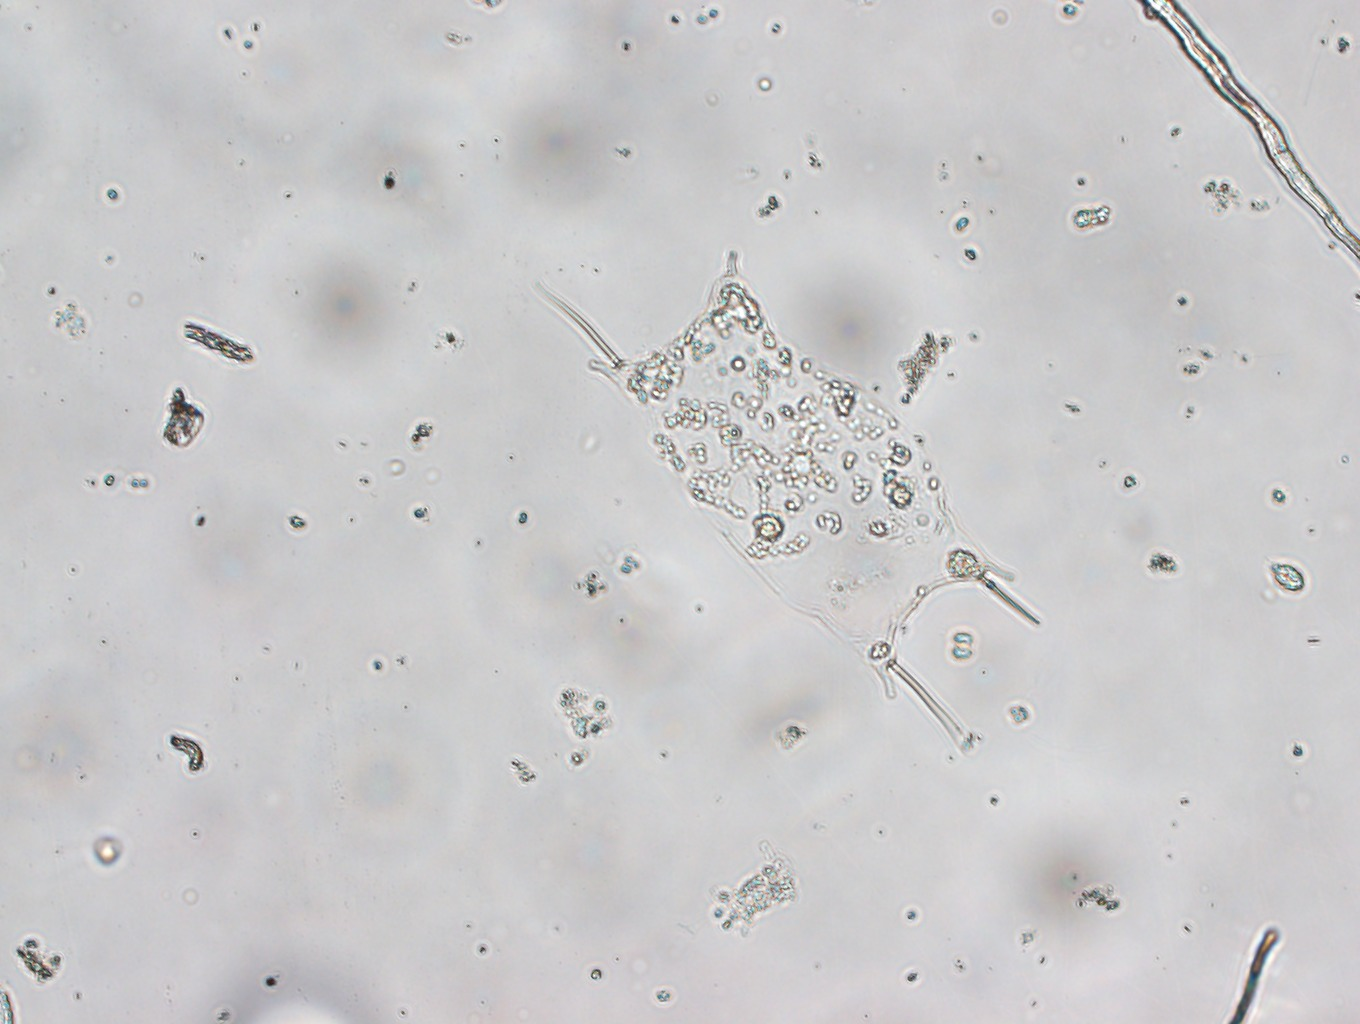biddulphia: (531, 255, 1053, 760)
